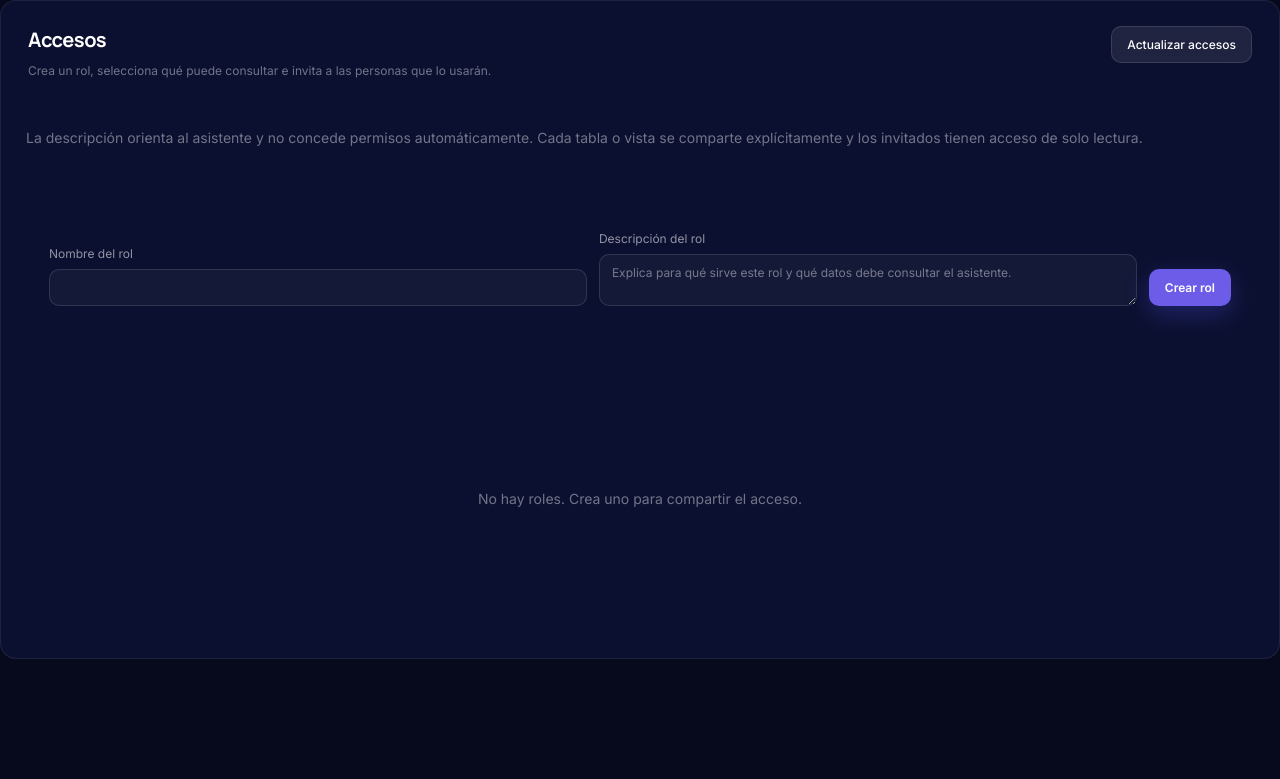
AccessPanel › crea un rol, concede un objeto e invita por correo, recargando el estado real
Expected: the text "No hay roles. Crea uno para compartir el acceso." is shown, [478, 490, 802, 507]
In the field labelled "Nombre del rol": {"x": 318, "y": 287} [49, 269, 587, 306], type " Lectores "
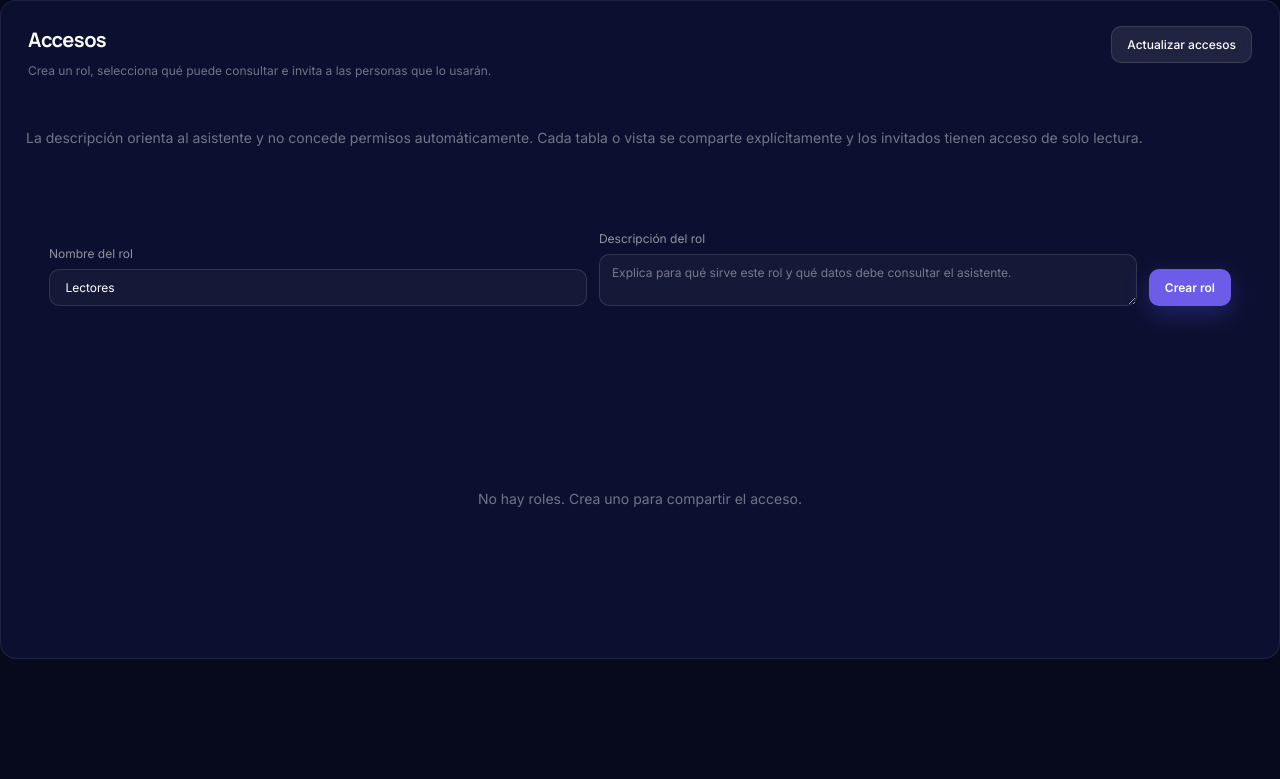
Click the button "Crear rol": {"x": 1190, "y": 287} [1149, 269, 1231, 306]
(page scrolled)
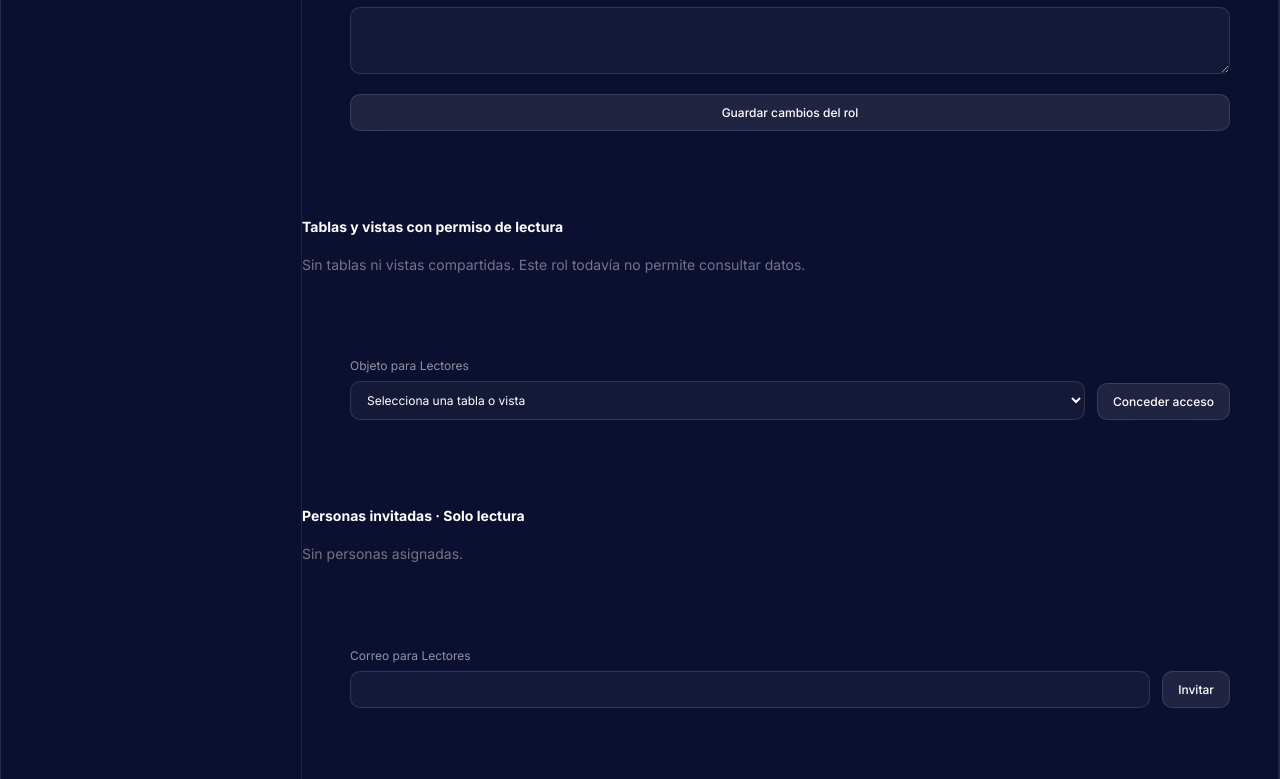
Select "Artículos publicados (articulos)" in the dropdown labelled "Objeto para Lectores": {"x": 718, "y": 401} [350, 381, 1085, 420]
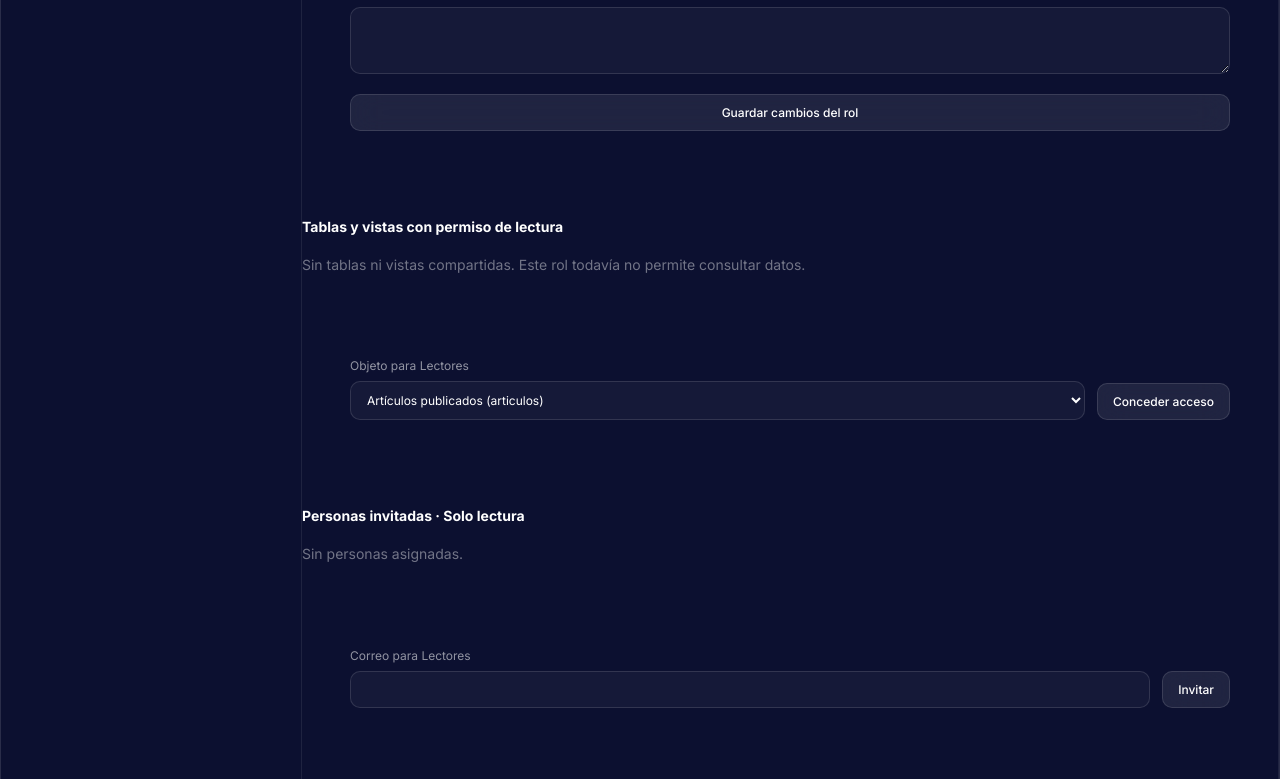
Click the button "Conceder acceso": {"x": 1164, "y": 402} [1097, 383, 1230, 420]
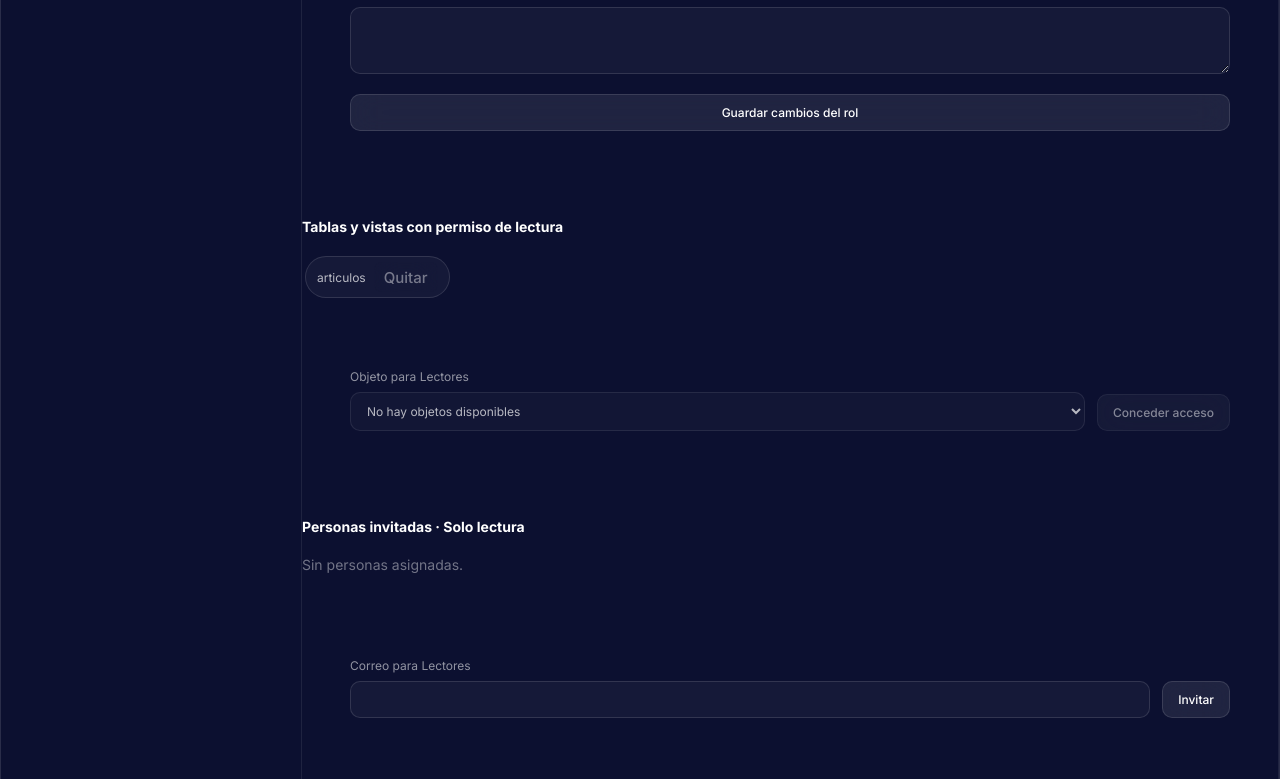
Expected: the button with aria-label "Revocar acceso a articulos del rol Lectores" is shown, [374, 262, 438, 292]
In the field labelled "Correo para Lectores": {"x": 750, "y": 700} [350, 681, 1150, 718], type "ana@example.com"
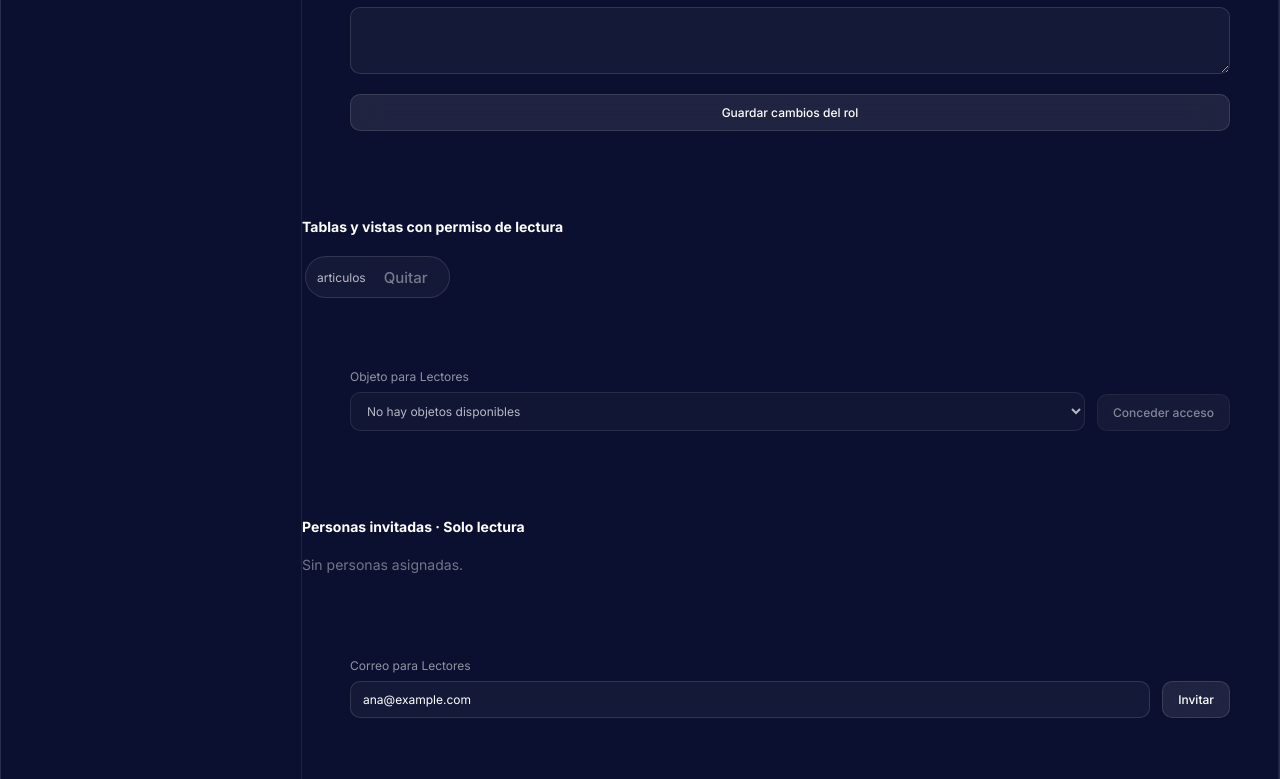
Click the button "Invitar": {"x": 1196, "y": 700} [1162, 681, 1230, 718]
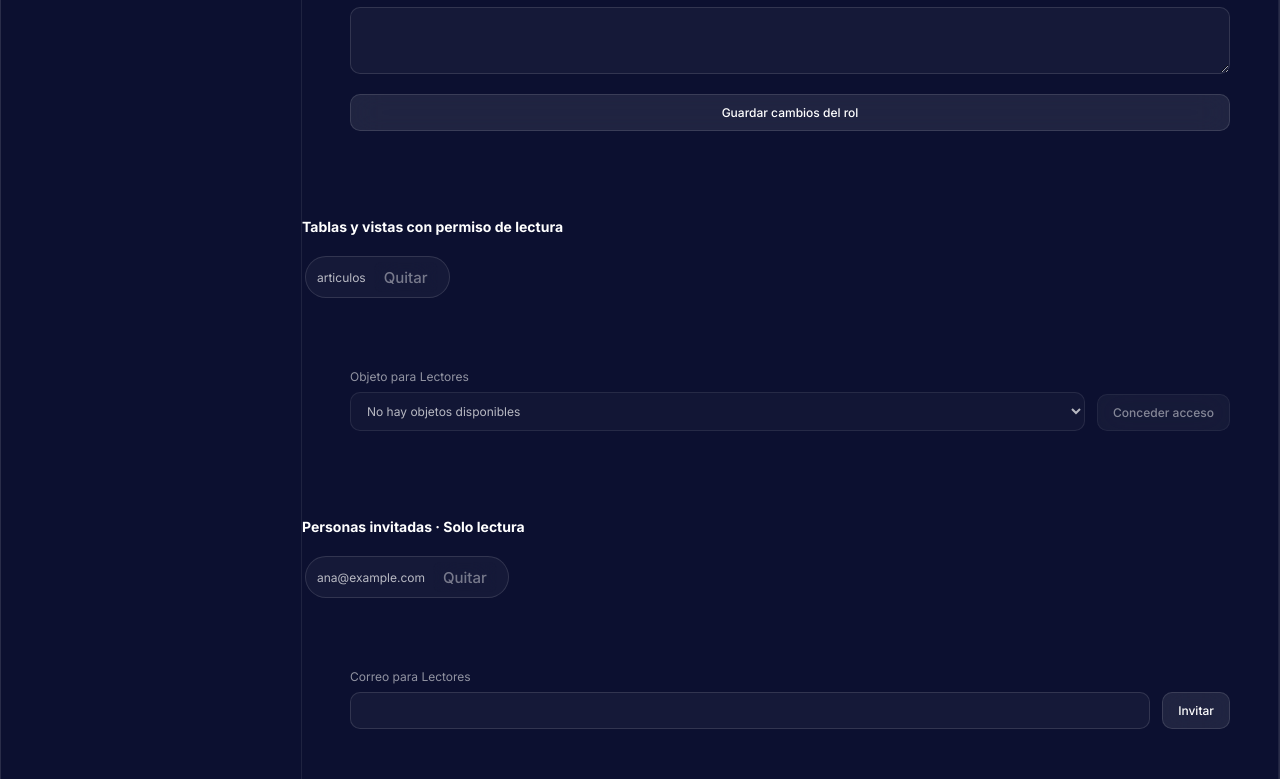
Expected: the text "ana@example.com" is shown, [317, 570, 425, 585]
